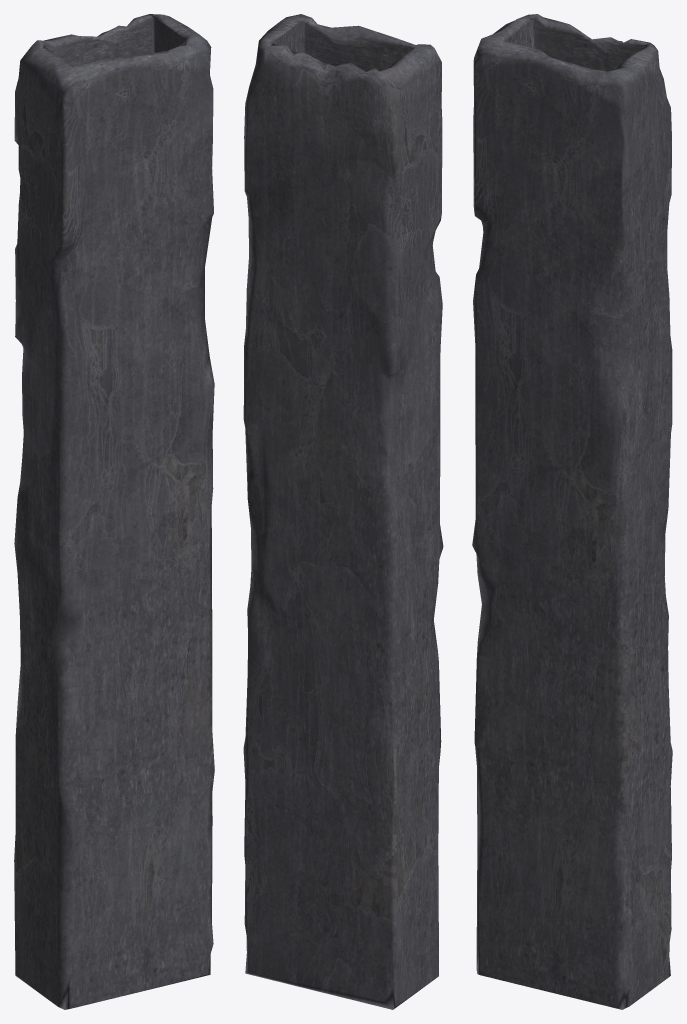
Rendered from SM_Chimney.fbx.
3 renders of one model, left to right at view 1: azimuth 30°, elevation 25°; view 2: azimuth 150°, elevation 25°; view 3: azimuth 330°, elevation 25°, orthographic.
Visible parts, largest first — view 1: SM_Chimney_LOD0; view 2: SM_Chimney_LOD0; view 3: SM_Chimney_LOD0.
Boxes of the visible parts, x1=… form: SM_Chimney_LOD0: x1=14, y1=14, x2=214, y2=1009; SM_Chimney_LOD0: x1=243, y1=14, x2=443, y2=1009; SM_Chimney_LOD0: x1=472, y1=14, x2=672, y2=1009.
Bounding box in the file's own units: 113 × 63.3 × 656.
